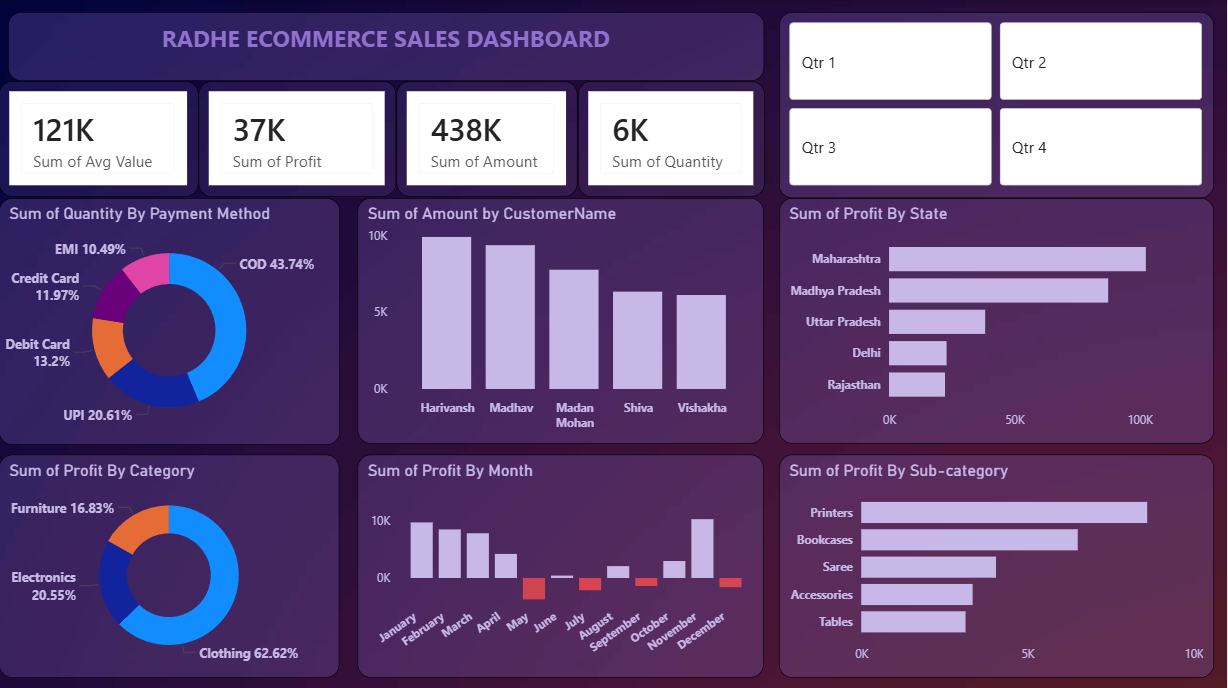

The page's visual inventory and layout, read from the dashboard file:
{"tool":"powerbi","page":{"name":"Page 1","canvas":[1280,720],"ordinal":0},"visuals":[{"type":"textbox","box":[9.4,13.2,788,71.8],"z":0},{"type":"barChart","title":"Sum of Profit By Sub-category","fields":{"Category":["Details.Sub-Category"],"Y":["Sum(Details.Profit)"]},"box":[812.8,473.6,453.3,232.9],"z":1000},{"type":"columnChart","title":"Sum of Profit By Month","fields":{"Y":["Sum(Details.Profit)"],"Category":["Orders.Order Date.Variation.Date Hierarchy.Month"]},"box":[373.6,473.6,423.6,232.9],"z":2000},{"type":"donutChart","title":"Sum of Profit By Category","fields":{"Category":["Details.Category"],"Y":["Sum(Details.Quantity)"]},"box":[0,473.6,354.8,232.9],"z":3000},{"type":"donutChart","title":"Sum of Quantity By Payment  Method","fields":{"Y":["Sum(Details.Quantity)"],"Category":["Details.PaymentMode"]},"box":[0,206,355.3,257],"z":4000},{"type":"cardVisual","fields":{"Data":["Sum(Details.Amount)"]},"box":[413.9,85,189,120.9],"z":5000},{"type":"cardVisual","fields":{"Data":["Sum(Details.Profit)"]},"box":[207.9,85,206,120.9],"z":6000},{"type":"cardVisual","fields":{"Data":["Sum(Details.Avg Value)"]},"box":[0,85,207.9,120.9],"z":7000},{"type":"cardVisual","fields":{"Data":["Sum(Details.Quantity)"]},"box":[602.8,85,194.6,120.9],"z":8000},{"type":"barChart","title":"Sum of Profit By State","fields":{"Category":["Orders.State"],"Y":["Sum(Details.Amount)"]},"box":[812.8,206.3,453.3,256.3],"z":9000},{"type":"columnChart","fields":{"Category":["Orders.CustomerName"],"Y":["Sum(Details.Amount)"]},"box":[373.6,206.3,423.6,256.3],"z":10000},{"type":"advancedSlicerVisual","fields":{"Values":["Orders.Order Date.Variation.Date Hierarchy.Quarter"]},"box":[812.8,12.5,453.3,193.8],"z":11000}]}

Visuals, with their boxes in screenshot pixels (x1, y1, x2, y2), scaled from the page's 1280x720 canvas onto the 1228x688 screenshot:
textbox: x1=9, y1=13, x2=765, y2=81
"Sum of Profit By Sub-category" barChart: x1=780, y1=453, x2=1215, y2=675
"Sum of Profit By Month" columnChart: x1=358, y1=453, x2=765, y2=675
"Sum of Profit By Category" donutChart: x1=0, y1=453, x2=340, y2=675
"Sum of Quantity By Payment  Method" donutChart: x1=0, y1=197, x2=341, y2=442
cardVisual - Sum(Details.Amount): x1=397, y1=81, x2=578, y2=197
cardVisual - Sum(Details.Profit): x1=199, y1=81, x2=397, y2=197
cardVisual - Sum(Details.Avg Value): x1=0, y1=81, x2=199, y2=197
cardVisual - Sum(Details.Quantity): x1=578, y1=81, x2=765, y2=197
"Sum of Profit By State" barChart: x1=780, y1=197, x2=1215, y2=442
columnChart - Orders.CustomerName x Sum(Details.Amount): x1=358, y1=197, x2=765, y2=442
advancedSlicerVisual - Orders.Order Date.Variation.Date Hierarchy.Quarter: x1=780, y1=12, x2=1215, y2=197
